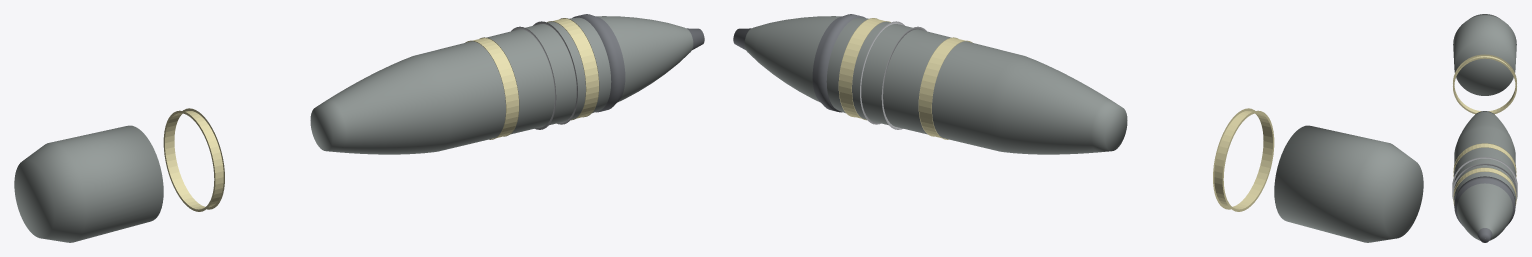
The model's file is CN_SLBM_JL1_LOD0.fbx.
The picture shows the model from 3 angles, left to right: view 1: azimuth 30°, elevation 25°; view 2: azimuth 150°, elevation 25°; view 3: azimuth 270°, elevation 25°; orthographic projection. The views are drawn at different scales.
Visible parts, largest first — view 1: WPN_CN_SLBM_JL1_LOD0_Body, WPN_CN_SLBM_JL1_LOD0_Tail, WPN_CN_SLBM_JL1_LOD0_Marking, WPN_CN_SLBM_JL1_LOD0_Nose, WPN_CN_SLBM_JL1_LOD0_Detail; view 2: WPN_CN_SLBM_JL1_LOD0_Body, WPN_CN_SLBM_JL1_LOD0_Tail, WPN_CN_SLBM_JL1_LOD0_Marking, WPN_CN_SLBM_JL1_LOD0_Nose, WPN_CN_SLBM_JL1_LOD0_Detail; view 3: WPN_CN_SLBM_JL1_LOD0_Body, WPN_CN_SLBM_JL1_LOD0_Tail, WPN_CN_SLBM_JL1_LOD0_Marking, WPN_CN_SLBM_JL1_LOD0_Nose, WPN_CN_SLBM_JL1_LOD0_Detail.
Boxes of the visible parts, bbox=[...] form: WPN_CN_SLBM_JL1_LOD0_Body: bbox=[310, 16, 693, 154]; WPN_CN_SLBM_JL1_LOD0_Tail: bbox=[14, 125, 163, 242]; WPN_CN_SLBM_JL1_LOD0_Marking: bbox=[163, 18, 599, 211]; WPN_CN_SLBM_JL1_LOD0_Nose: bbox=[572, 14, 704, 112]; WPN_CN_SLBM_JL1_LOD0_Detail: bbox=[511, 21, 577, 129]; WPN_CN_SLBM_JL1_LOD0_Body: bbox=[744, 16, 1127, 154]; WPN_CN_SLBM_JL1_LOD0_Tail: bbox=[1274, 125, 1423, 242]; WPN_CN_SLBM_JL1_LOD0_Marking: bbox=[838, 18, 1274, 211]; WPN_CN_SLBM_JL1_LOD0_Nose: bbox=[733, 14, 865, 112]; WPN_CN_SLBM_JL1_LOD0_Detail: bbox=[860, 21, 926, 129]; WPN_CN_SLBM_JL1_LOD0_Body: bbox=[1454, 111, 1515, 240]; WPN_CN_SLBM_JL1_LOD0_Tail: bbox=[1453, 14, 1516, 95]; WPN_CN_SLBM_JL1_LOD0_Marking: bbox=[1453, 54, 1516, 205]; WPN_CN_SLBM_JL1_LOD0_Nose: bbox=[1454, 176, 1515, 242]; WPN_CN_SLBM_JL1_LOD0_Detail: bbox=[1452, 157, 1517, 201].
Size of the model in its own units: 10.7 by 1.47 by 1.47.
